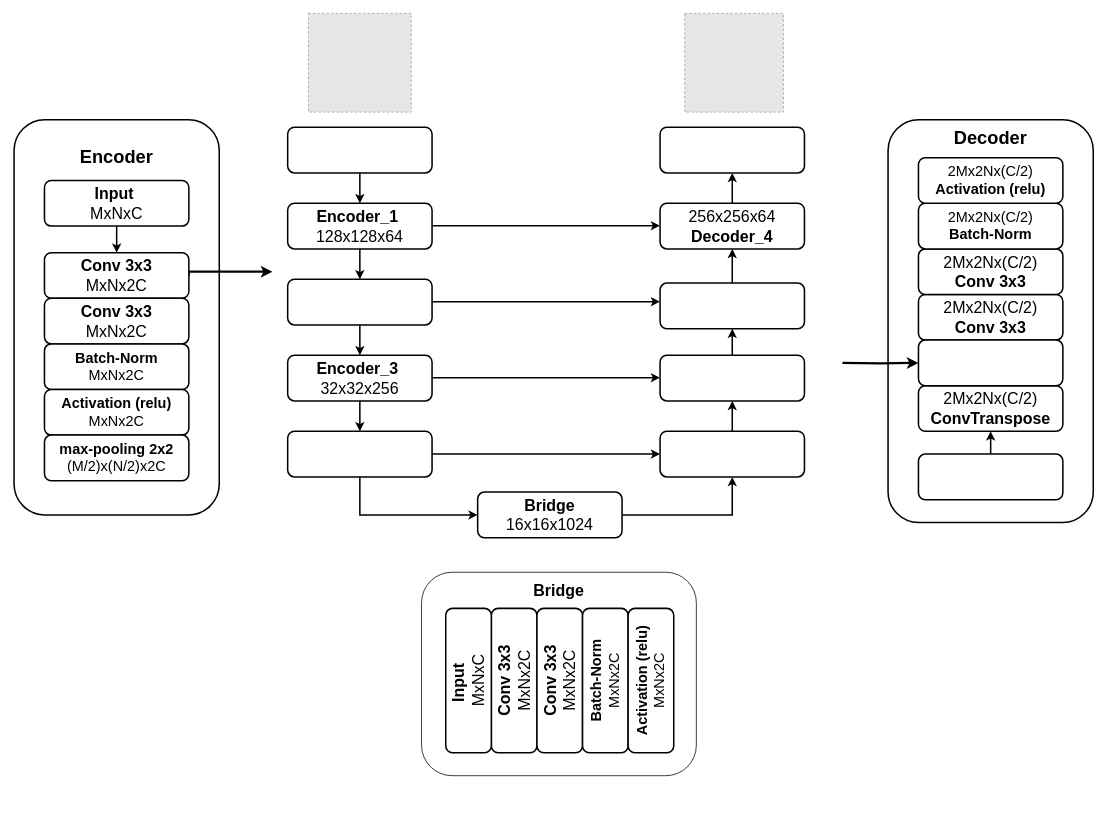
Image size: 1107x829. Some labels were removed from this diagram. Grey dashed boxes stand in for pictures. The shapes that lost their labels are listed below. From the top down, each one's centre as x and y in pixels, then its label:
[359,149]: Input 256x256x3
[732,149]: 256x256x1 conv 3x3
[359,301]: Encoder_2 64x64x128
[732,305]: 128x128x128 Decoder_3
[732,377]: 64x64x256 Decoder_2
[990,362]: 2Mx2NxC Concatenate
[359,453]: Encoder_4 16x16x512
[732,453]: 32x32x512 Decoder_1
[990,476]: MxNxC Input
